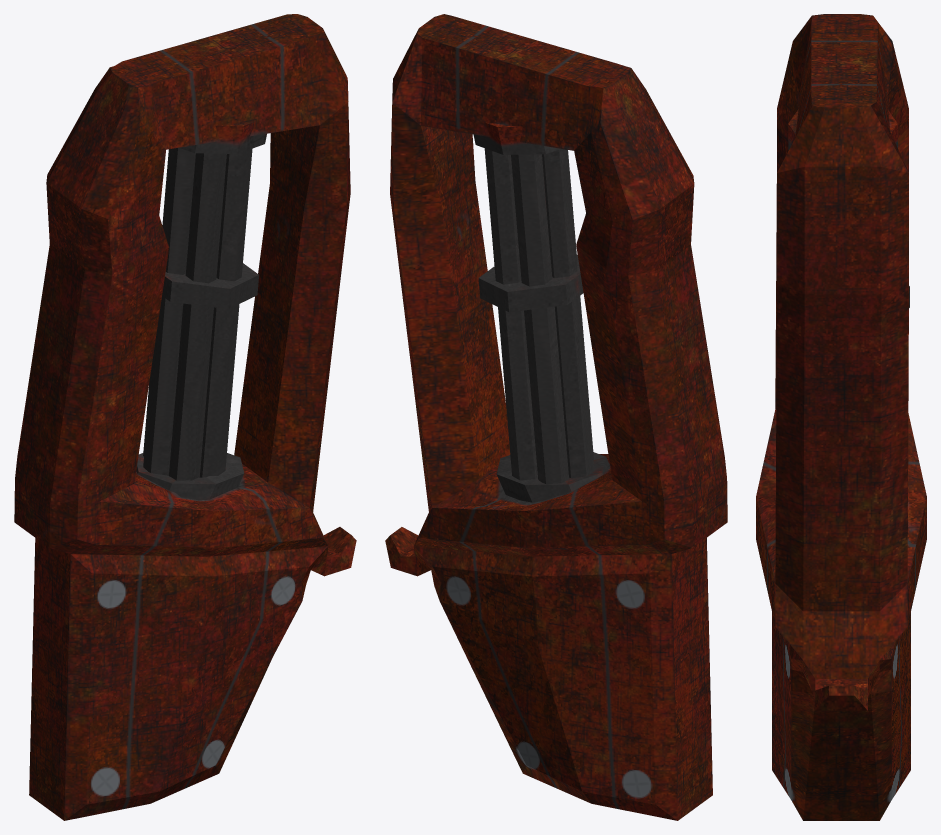
Rendered from Roltary_reciecer_Tyla.fbx.
3 views of the same model, side by side, from view 1: azimuth 30°, elevation 25°; view 2: azimuth 150°, elevation 25°; view 3: azimuth 270°, elevation 25° (orthographic). The views are drawn at different scales.
Parts seen in each view (by area): view 1: receiver_Rotary; view 2: receiver_Rotary; view 3: receiver_Rotary.
Boxes of the visible parts, x1=… form: receiver_Rotary: x1=14, y1=14, x2=356, y2=820; receiver_Rotary: x1=385, y1=14, x2=727, y2=820; receiver_Rotary: x1=756, y1=14, x2=926, y2=820.
Bounding box in the file's own units: 20.22 × 43.62 × 8.6.
1 material, 1 textured.
